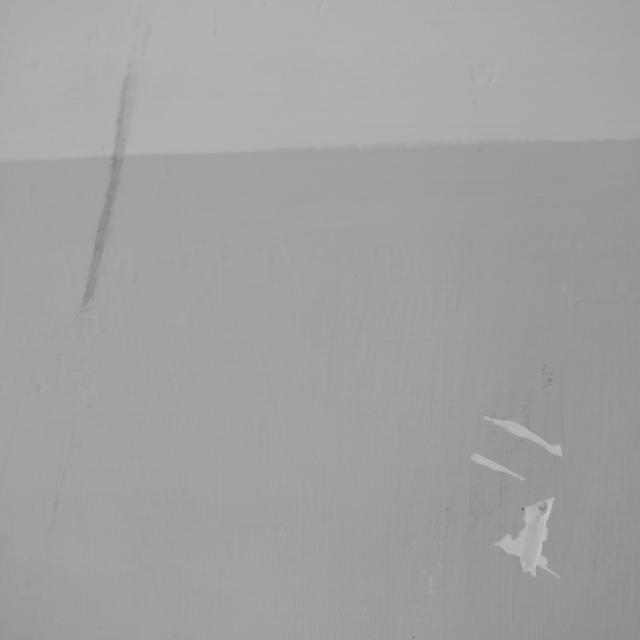peeling paint: (446, 384, 614, 628)
stain marks: (55, 4, 178, 371), (24, 374, 140, 558)
